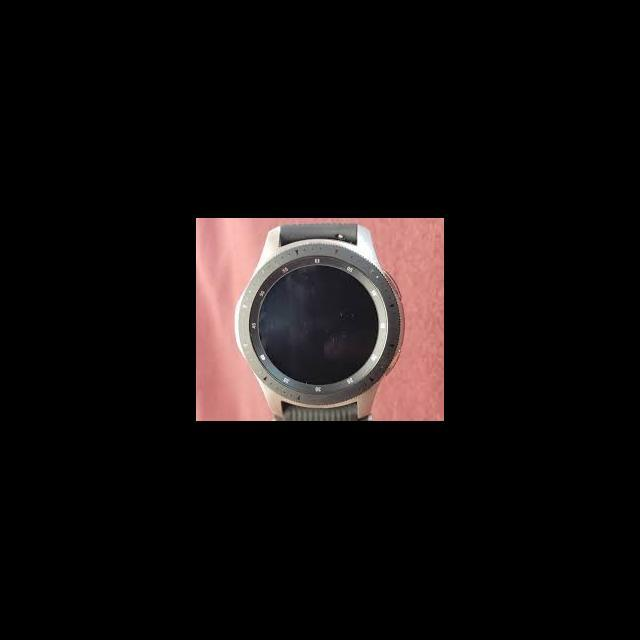watch: (228, 208, 414, 448)
